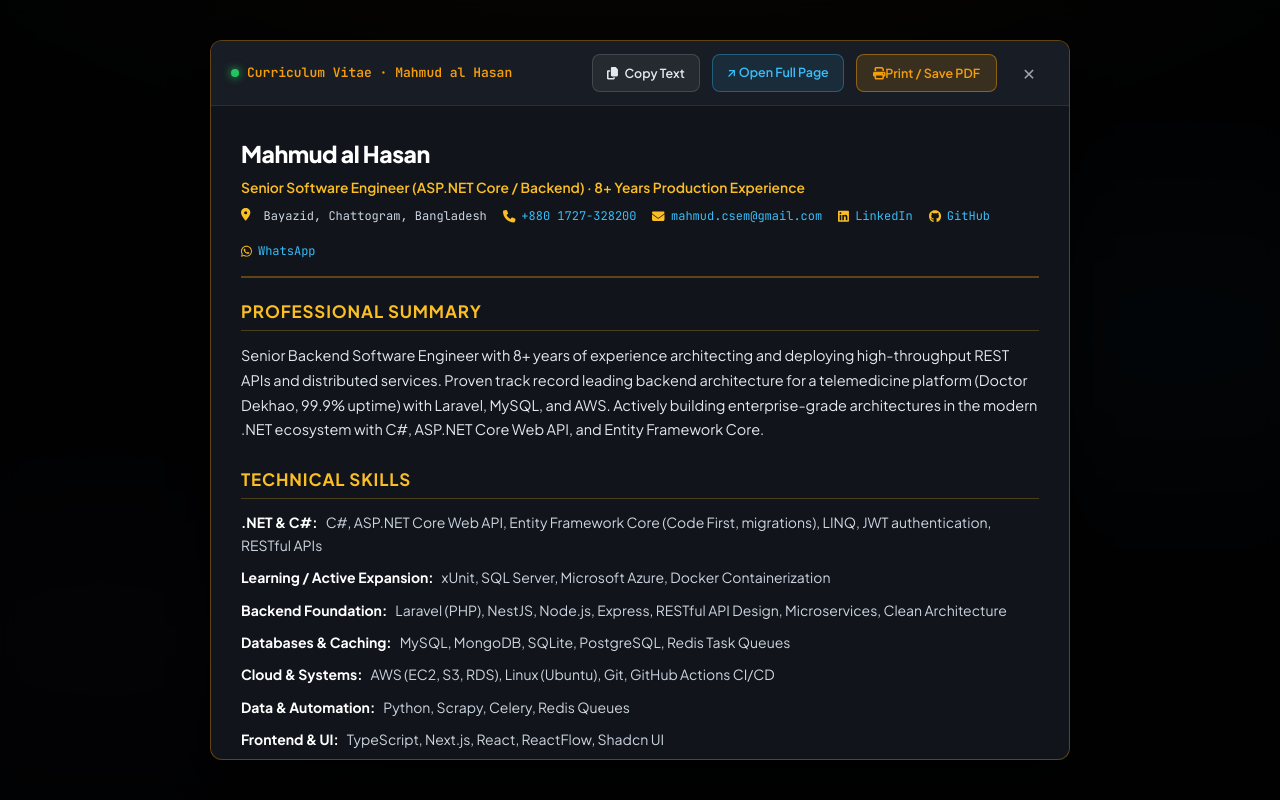
Test: ResumeModal Component › renders copy text button and handles click
Step 1. Click the button with aria-label "Copy plain text resume" → {"x": 646, "y": 73}, box left=592, top=54, right=700, bottom=92
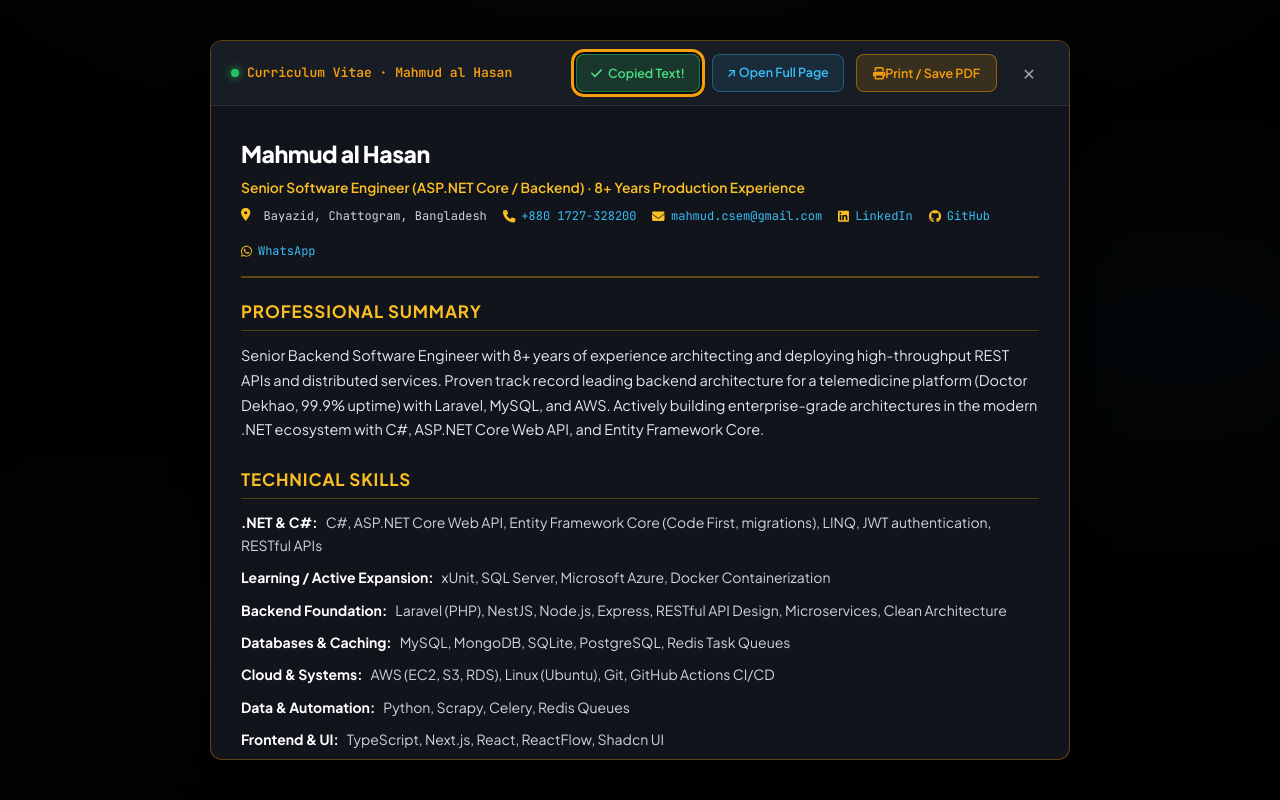
expect the text "Copied Text!" is shown: met, box left=608, top=65, right=685, bottom=81
